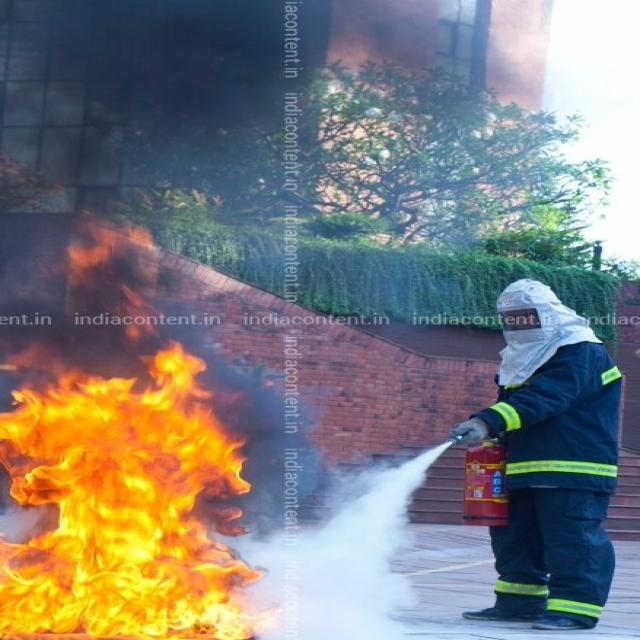fire: (0, 340, 280, 640), (64, 215, 154, 281), (118, 285, 161, 338)
